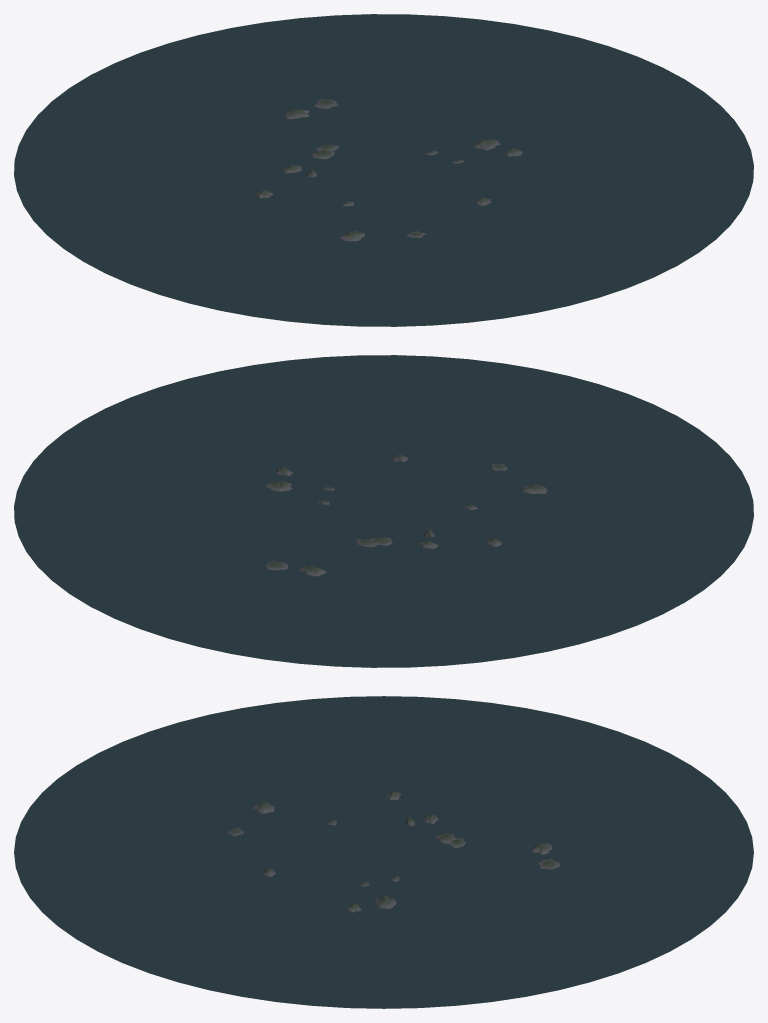
File: backdrop_islands_isle_summer.glb
The picture shows the model from 3 angles, top to bottom: view 1: azimuth 30°, elevation 25°; view 2: azimuth 150°, elevation 25°; view 3: azimuth 270°, elevation 25°; orthographic projection.
Visible parts, largest first — view 1: water_S, water_W, water_E, water_N, islands; view 2: water_S, water_W, water_E, water_N, islands; view 3: water_W, water_E, water_S, water_N, islands.
Part boxes in pixels (x1,y1,x2,y2): water_S: (288,170,741,326); water_W: (14,130,383,321); water_E: (384,19,753,210); water_N: (26,14,479,170); islands: (255,99,522,241); water_S: (288,355,741,511); water_W: (384,471,753,662); water_E: (14,360,383,551); water_N: (26,511,479,667); islands: (265,454,547,576); water_W: (123,696,644,852); water_E: (123,852,644,1008); water_S: (14,742,383,962); water_N: (384,742,753,962); islands: (228,791,560,912).
Bounding box in the file's own units: 6000 × 61.15 × 6000.
